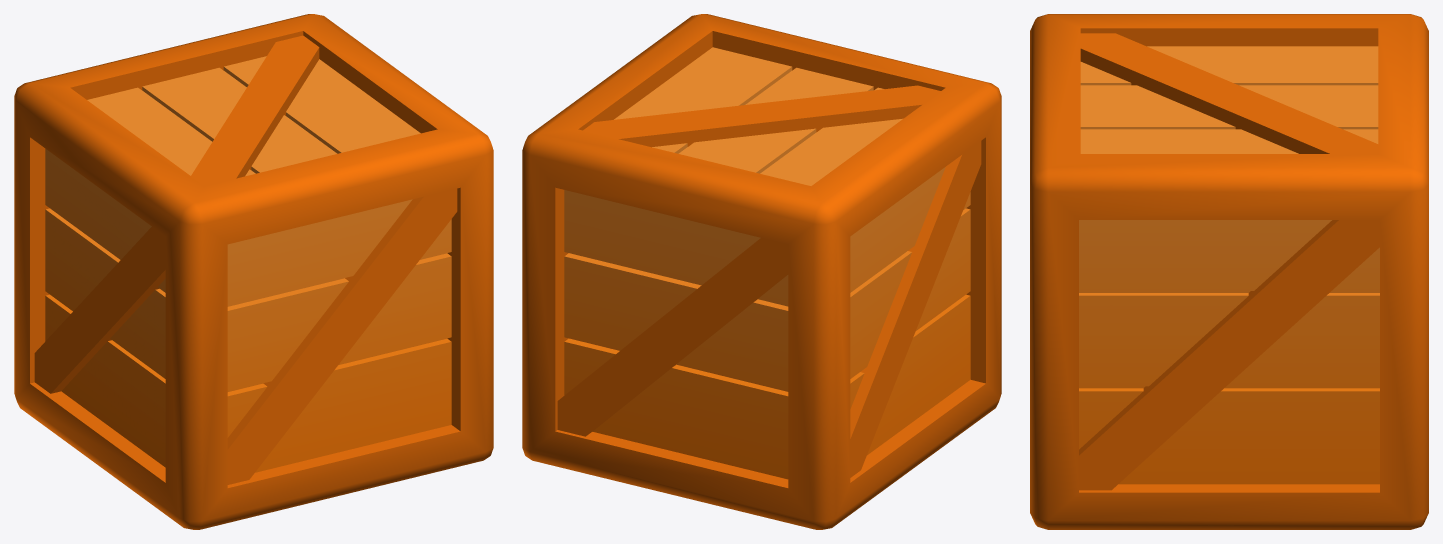
File: Props_Crate_02.fbx
The picture shows the model from 3 angles, left to right: view 1: azimuth 30°, elevation 25°; view 2: azimuth 150°, elevation 25°; view 3: azimuth 270°, elevation 25°; orthographic projection. The views are drawn at different scales.
Parts seen in each view (by area): view 1: Props_Crate_02; view 2: Props_Crate_02; view 3: Props_Crate_02.
Part boxes in pixels (x1=…): Props_Crate_02: x1=14, y1=14, x2=493, y2=529; Props_Crate_02: x1=522, y1=14, x2=1001, y2=529; Props_Crate_02: x1=1030, y1=14, x2=1428, y2=529.
Size of the model in its own units: 119 by 119 by 119.
